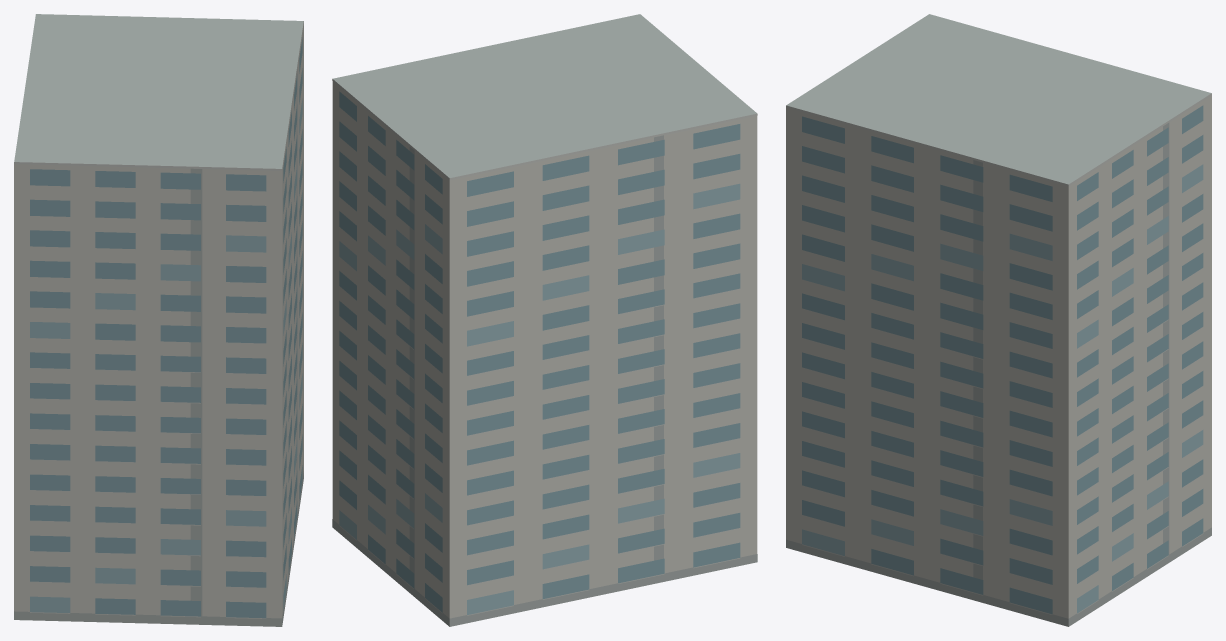
The model's file is residential-87945da7-4b78-4f6a-9ecd-a834653ad185.glb.
The picture shows the model from 3 angles, left to right: view 1: azimuth 30°, elevation 25°; view 2: azimuth 150°, elevation 25°; view 3: azimuth 270°, elevation 25°; orthographic projection. The views are drawn at different scales.
Parts seen in each view (by area): view 1: residential-87945da7-4b78-4f6a-9ecd-a834653ad185.tmp; view 2: residential-87945da7-4b78-4f6a-9ecd-a834653ad185.tmp; view 3: residential-87945da7-4b78-4f6a-9ecd-a834653ad185.tmp.
Part boxes in pixels (box(x1,y1,x2,y2)): residential-87945da7-4b78-4f6a-9ecd-a834653ad185.tmp: box(14, 14, 303, 626); residential-87945da7-4b78-4f6a-9ecd-a834653ad185.tmp: box(332, 14, 757, 626); residential-87945da7-4b78-4f6a-9ecd-a834653ad185.tmp: box(786, 14, 1211, 626).
Size of the model in its own units: 42.99 by 52 by 45.36.
